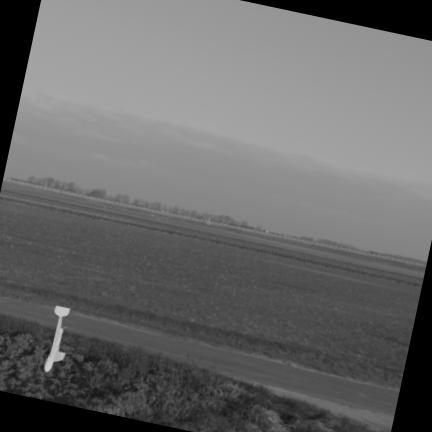Shahed: (44, 306, 69, 371)
